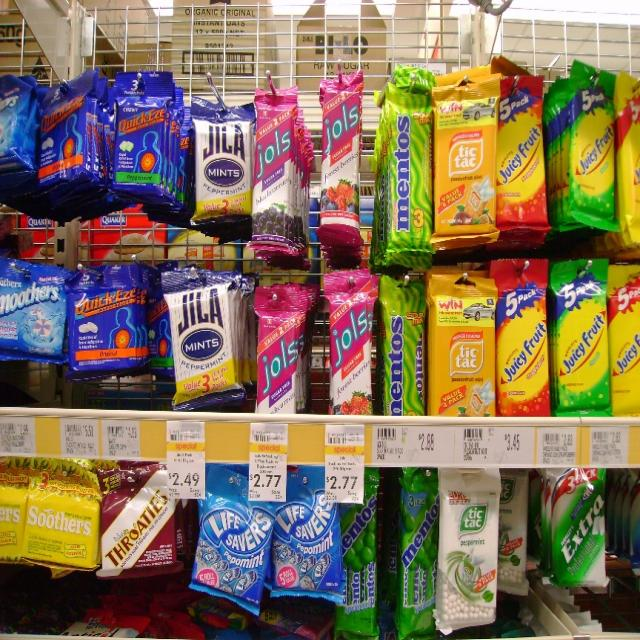q268: (439, 464, 500, 636)
